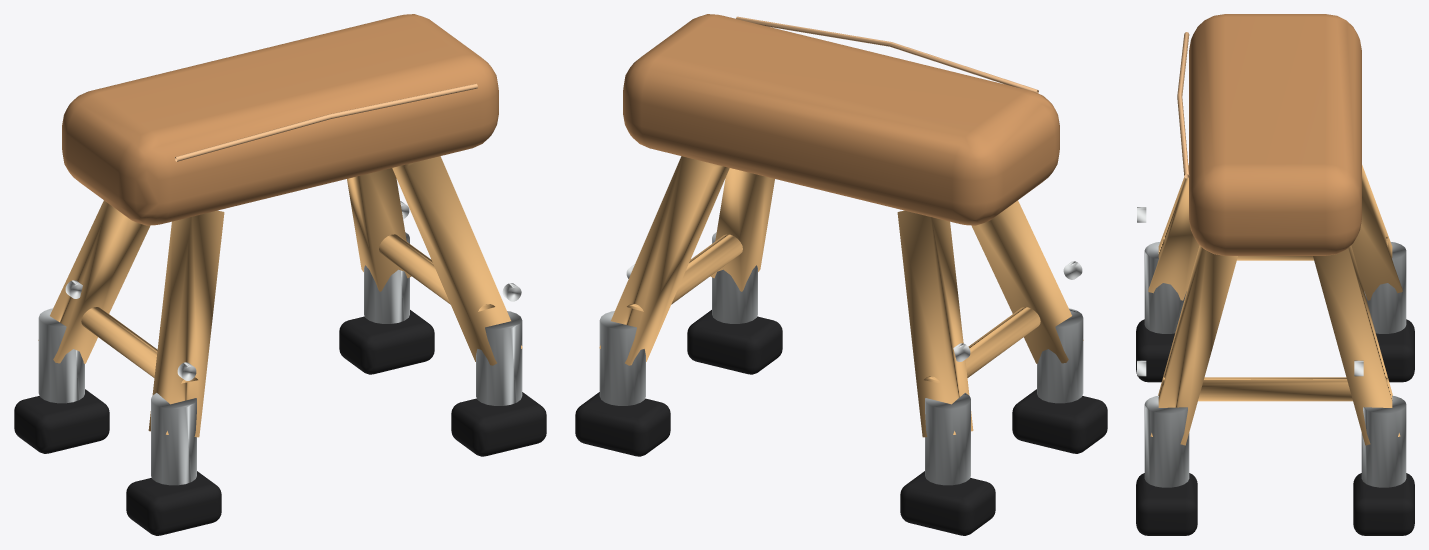
The model's file is Turnbock_3D.glb.
3 renders of one model, left to right at view 1: azimuth 30°, elevation 25°; view 2: azimuth 150°, elevation 25°; view 3: azimuth 270°, elevation 25°, orthographic. The views are drawn at different scales.
Visible parts, largest first — view 1: Turnbock_3D__web_brown_leather_padded_vaulting_buck_top, Turnbock_3D__web_warm_wooden_vaulting_buck_legs, Turnbock_3D__web_black_rubber_vaulting_buck_feet, Turnbock_3D__web_brushed_steel_vaulting_buck_height_sleeves, Turnbock_3D__web_soft_tan_vaulting_buck_leather_highlight, Turnbock_3D__web_chrome_vaulting_buck_bolts; view 2: Turnbock_3D__web_brown_leather_padded_vaulting_buck_top, Turnbock_3D__web_warm_wooden_vaulting_buck_legs, Turnbock_3D__web_black_rubber_vaulting_buck_feet, Turnbock_3D__web_brushed_steel_vaulting_buck_height_sleeves, Turnbock_3D__web_soft_tan_vaulting_buck_leather_highlight; view 3: Turnbock_3D__web_brown_leather_padded_vaulting_buck_top, Turnbock_3D__web_warm_wooden_vaulting_buck_legs, Turnbock_3D__web_brushed_steel_vaulting_buck_height_sleeves, Turnbock_3D__web_black_rubber_vaulting_buck_feet, Turnbock_3D__web_soft_tan_vaulting_buck_leather_highlight, Turnbock_3D__web_chrome_vaulting_buck_bolts.
Part boxes in pixels (left/top/right/bottom): Turnbock_3D__web_brown_leather_padded_vaulting_buck_top: left=62, top=14, right=498, bottom=225; Turnbock_3D__web_warm_wooden_vaulting_buck_legs: left=38, top=156, right=522, bottom=437; Turnbock_3D__web_black_rubber_vaulting_buck_feet: left=14, top=310, right=546, bottom=535; Turnbock_3D__web_brushed_steel_vaulting_buck_height_sleeves: left=38, top=232, right=522, bottom=485; Turnbock_3D__web_soft_tan_vaulting_buck_leather_highlight: left=175, top=83, right=477, bottom=161; Turnbock_3D__web_chrome_vaulting_buck_bolts: left=65, top=201, right=521, bottom=380; Turnbock_3D__web_brown_leather_padded_vaulting_buck_top: left=623, top=14, right=1059, bottom=225; Turnbock_3D__web_warm_wooden_vaulting_buck_legs: left=599, top=156, right=1083, bottom=437; Turnbock_3D__web_black_rubber_vaulting_buck_feet: left=575, top=310, right=1107, bottom=535; Turnbock_3D__web_brushed_steel_vaulting_buck_height_sleeves: left=599, top=232, right=1083, bottom=485; Turnbock_3D__web_soft_tan_vaulting_buck_leather_highlight: left=736, top=16, right=1038, bottom=93; Turnbock_3D__web_brown_leather_padded_vaulting_buck_top: left=1189, top=14, right=1361, bottom=255; Turnbock_3D__web_warm_wooden_vaulting_buck_legs: left=1148, top=165, right=1402, bottom=445; Turnbock_3D__web_brushed_steel_vaulting_buck_height_sleeves: left=1144, top=242, right=1406, bottom=487; Turnbock_3D__web_black_rubber_vaulting_buck_feet: left=1136, top=319, right=1414, bottom=535; Turnbock_3D__web_soft_tan_vaulting_buck_leather_highlight: left=1177, top=32, right=1189, bottom=178; Turnbock_3D__web_chrome_vaulting_buck_bolts: left=1137, top=207, right=1363, bottom=376.
Size of the model in its own units: 0.9538 by 0.84 by 0.597.
